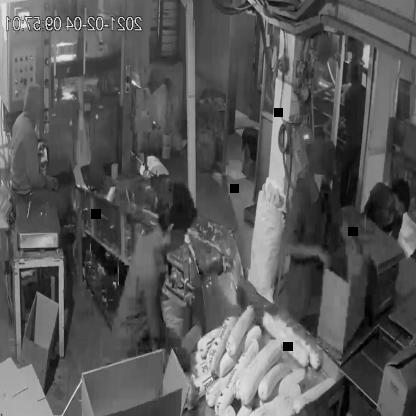glove: (154, 326, 196, 376)
no_glove: (280, 230, 342, 281), (330, 215, 366, 257)
